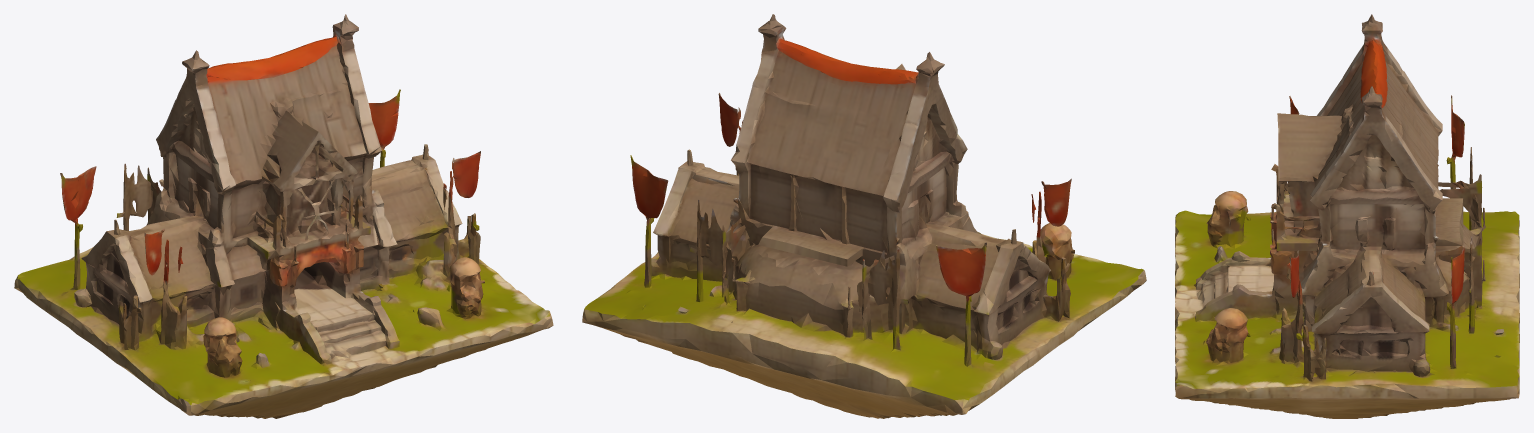
File: orc_townhall.glb
3 renders of one model, left to right at view 1: azimuth 30°, elevation 25°; view 2: azimuth 150°, elevation 25°; view 3: azimuth 270°, elevation 25°, orthographic. The views are drawn at different scales.
Parts seen in each view (by area): view 1: orc_townhall; view 2: orc_townhall; view 3: orc_townhall.
Part boxes in pixels (bbox=[...]): orc_townhall: bbox=[14, 14, 553, 418]; orc_townhall: bbox=[582, 14, 1146, 418]; orc_townhall: bbox=[1175, 14, 1519, 418].
Bounding box in the file's own units: 1.89 × 1.82 × 1.57.
1 material, 1 textured.
